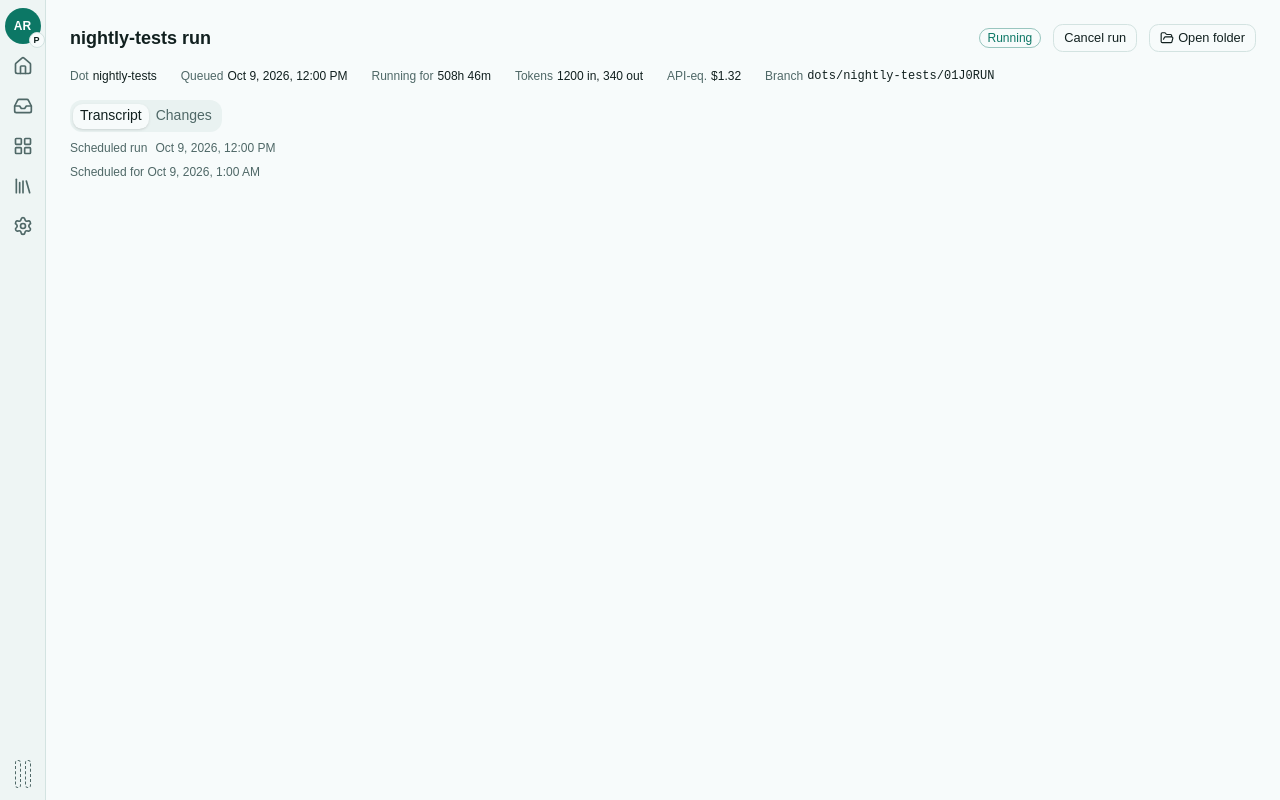
Test: the run view › offers no review or discard while a worktree run is still going
Check: the button "Cancel run" is shown, box [1053,24,1137,52]
# Judge only once the diff has arrived and said that the worktree exists.
What coordinates should you click on to do the following:
click the tab "Changes"
I would click on:
 (184, 116)
Its box is [149,104,219,128].
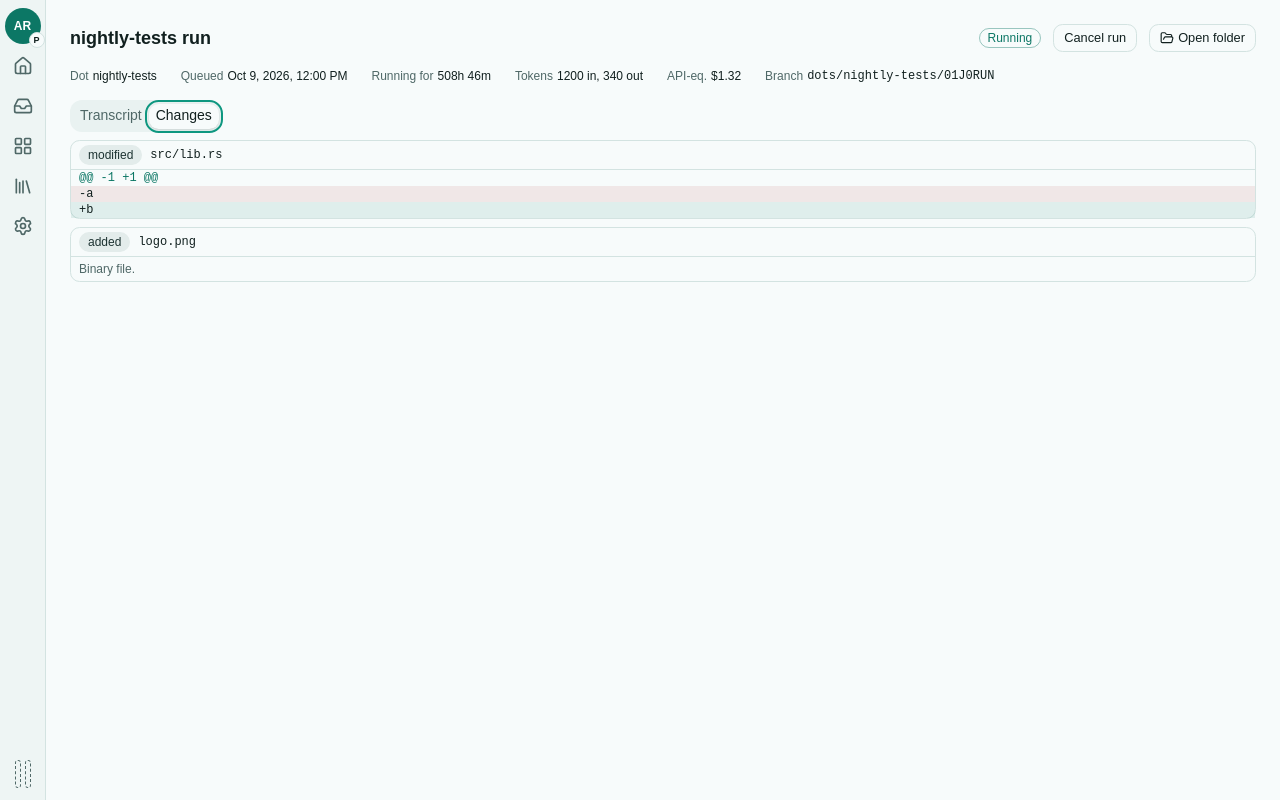
Check: the text "src/lib.rs" is shown, box [150,147,222,163]
